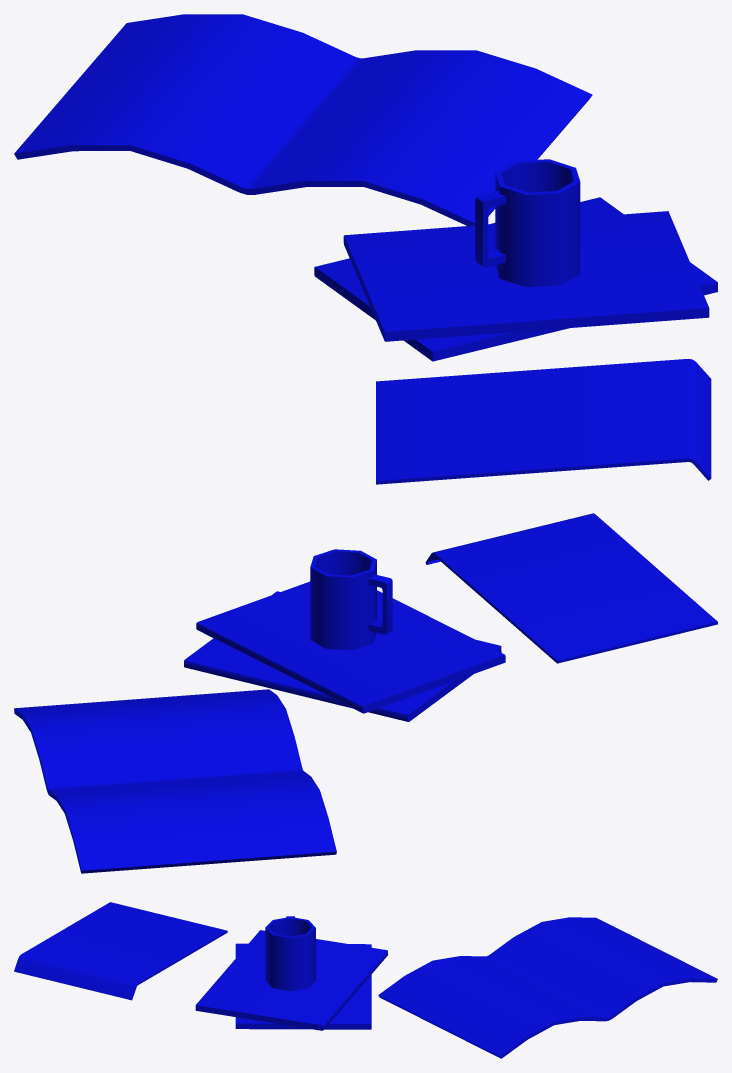
File: ClutterPile_Rec_2.FBX
3 renders of one model, top to bottom at view 1: azimuth 30°, elevation 25°; view 2: azimuth 150°, elevation 25°; view 3: azimuth 270°, elevation 25°, orthographic. The views are drawn at different scales.
Visible parts, largest first — view 1: ClutterPile_Rec_2; view 2: ClutterPile_Rec_2; view 3: ClutterPile_Rec_2.
Part boxes in pixels (bbox=[...]): ClutterPile_Rec_2: bbox=[14, 14, 717, 484]; ClutterPile_Rec_2: bbox=[14, 513, 717, 873]; ClutterPile_Rec_2: bbox=[14, 902, 717, 1058].
Size of the model in its own units: 16.32 by 3.22 by 31.17.
